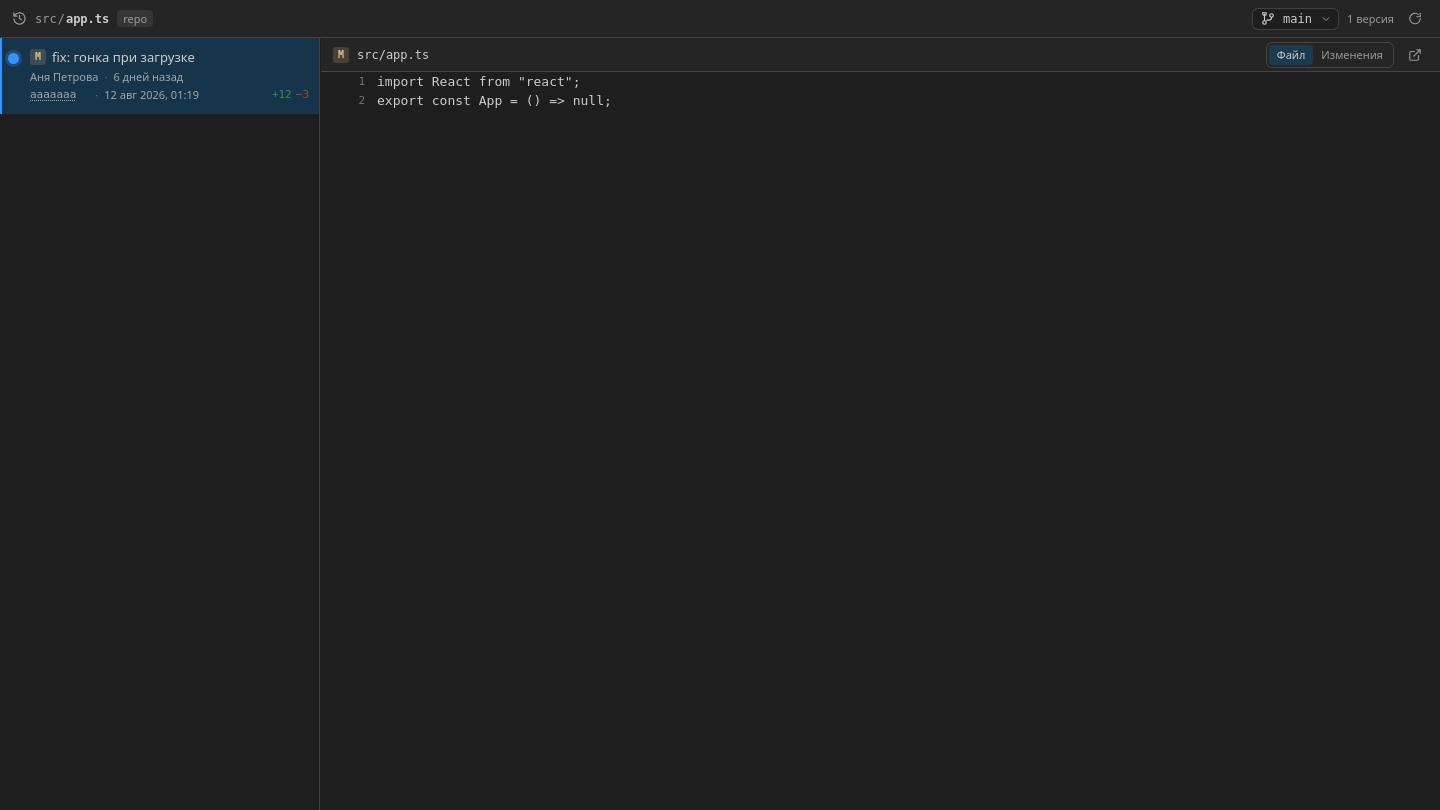
Test: App истории › переключение на «Изменения» запрашивает патч этой же версии
Click the button "Изменения".
click(1352, 54)  # box [1313,44,1391,64]
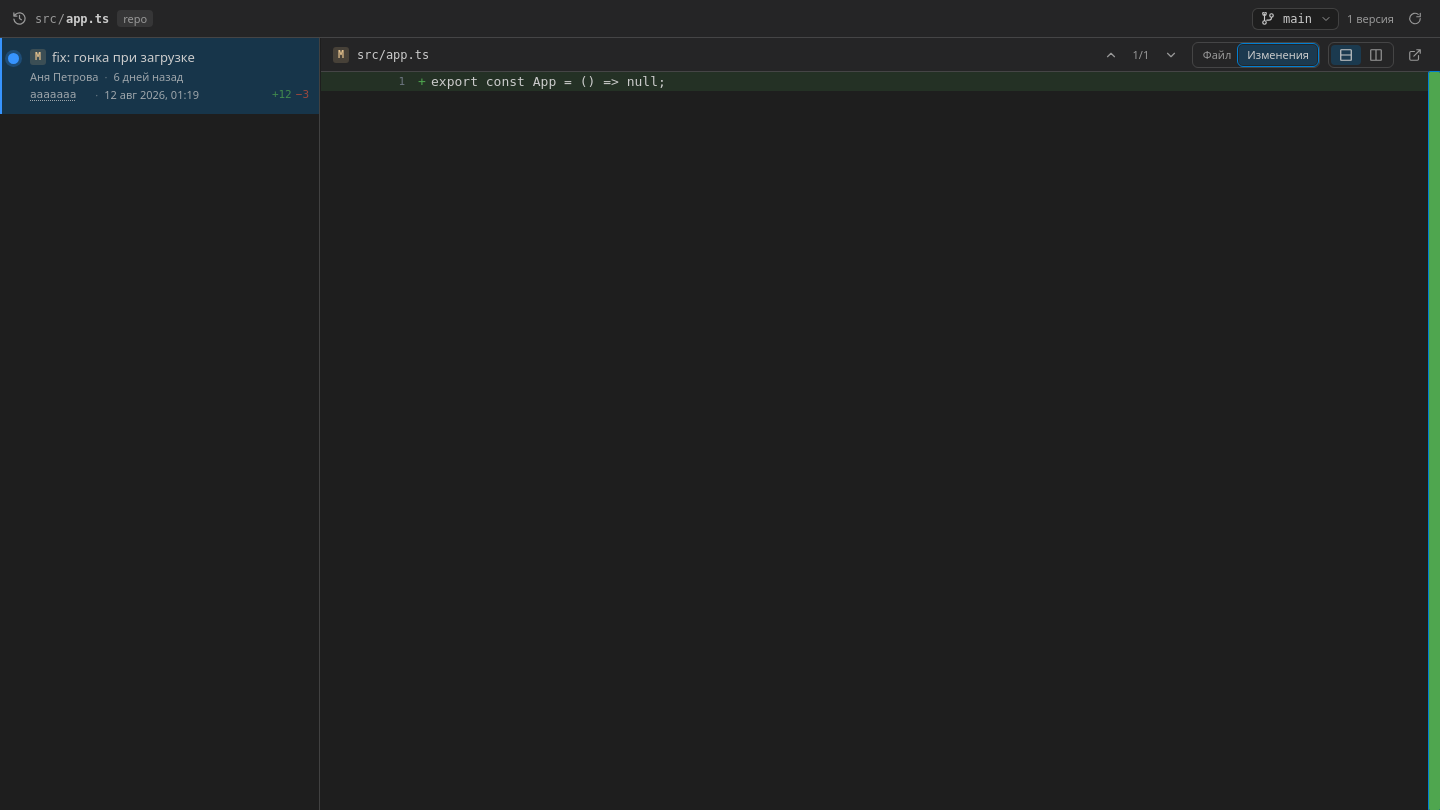
Expected: the element named "Режим отображения" is shown, [1328,42,1394,68]
